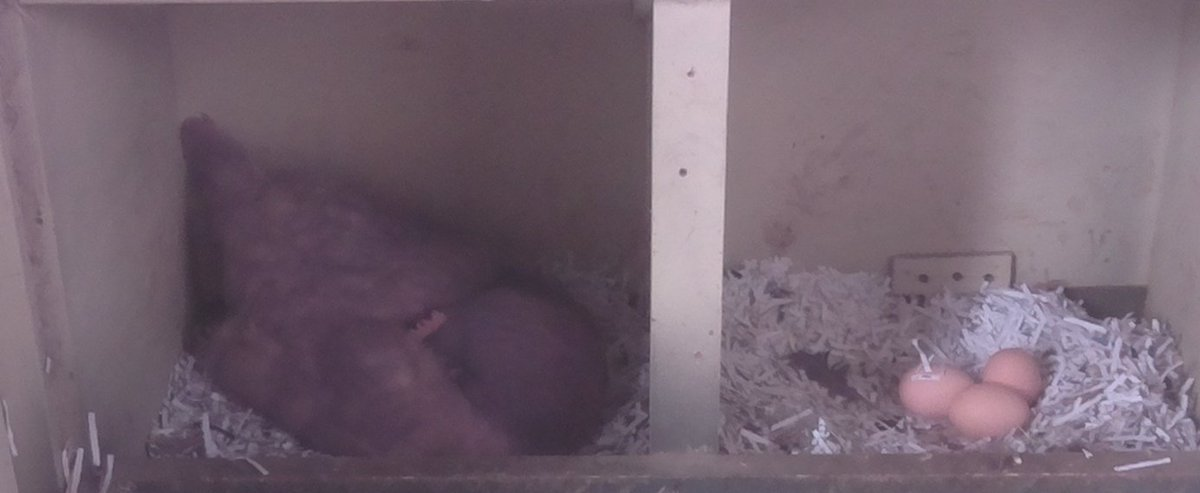egg: (947, 381, 1036, 446), (975, 345, 1053, 411), (893, 359, 978, 417)
hen: (178, 126, 615, 449)
